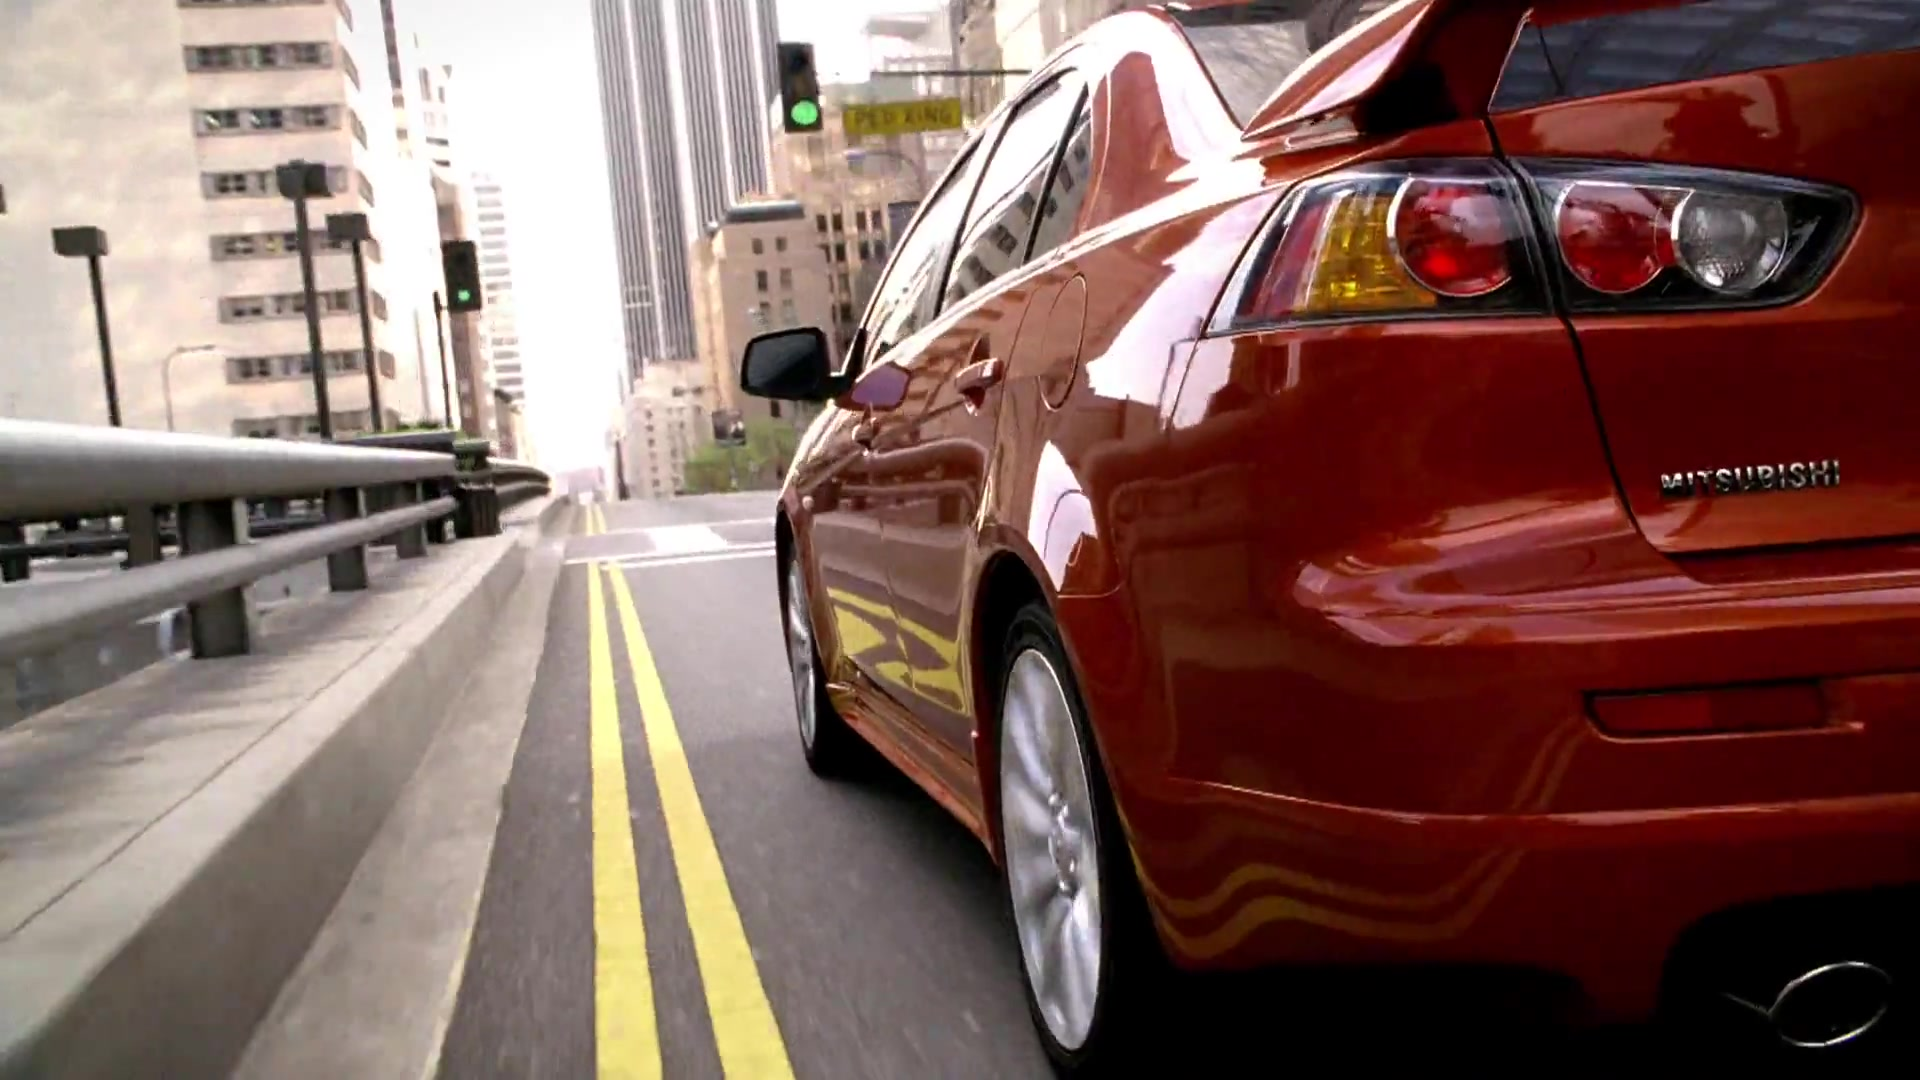car: (732, 3, 1920, 1080)
